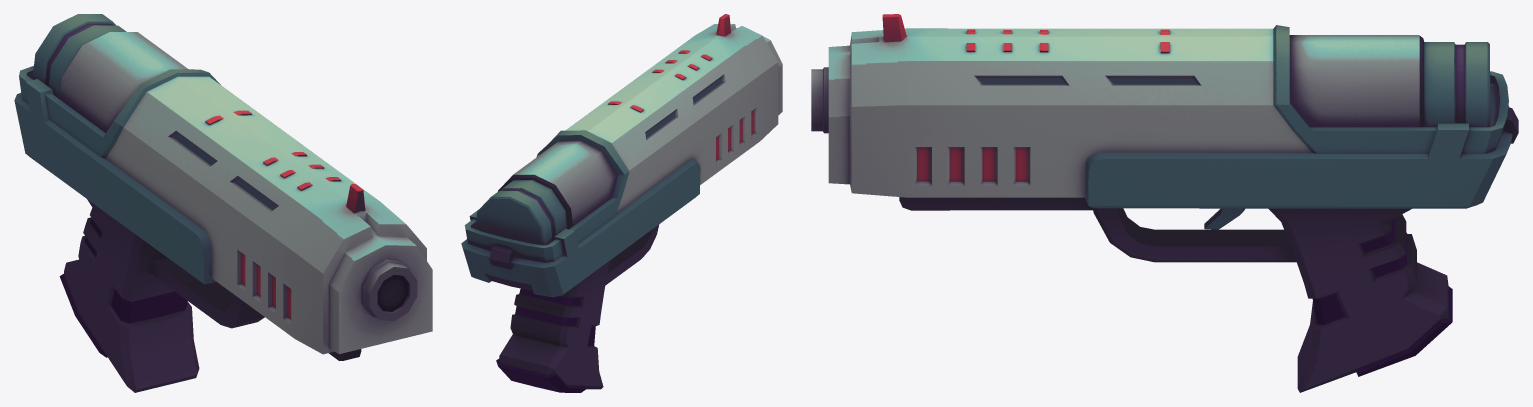
File: Gun.glb
The picture shows the model from 3 angles, left to right: view 1: azimuth 30°, elevation 25°; view 2: azimuth 150°, elevation 25°; view 3: azimuth 270°, elevation 25°; orthographic projection. The views are drawn at different scales.
Visible parts, largest first — view 1: Gun_export; view 2: Gun_export; view 3: Gun_export.
Boxes of the visible parts, <box> form: Gun_export: <box>14,14,432,392</box>; Gun_export: <box>461,14,782,392</box>; Gun_export: <box>811,14,1518,392</box>.
Bounding box in the file's own units: 0.2245 × 0.5899 × 1.04.
Materials: 1 (1 with a texture image).
